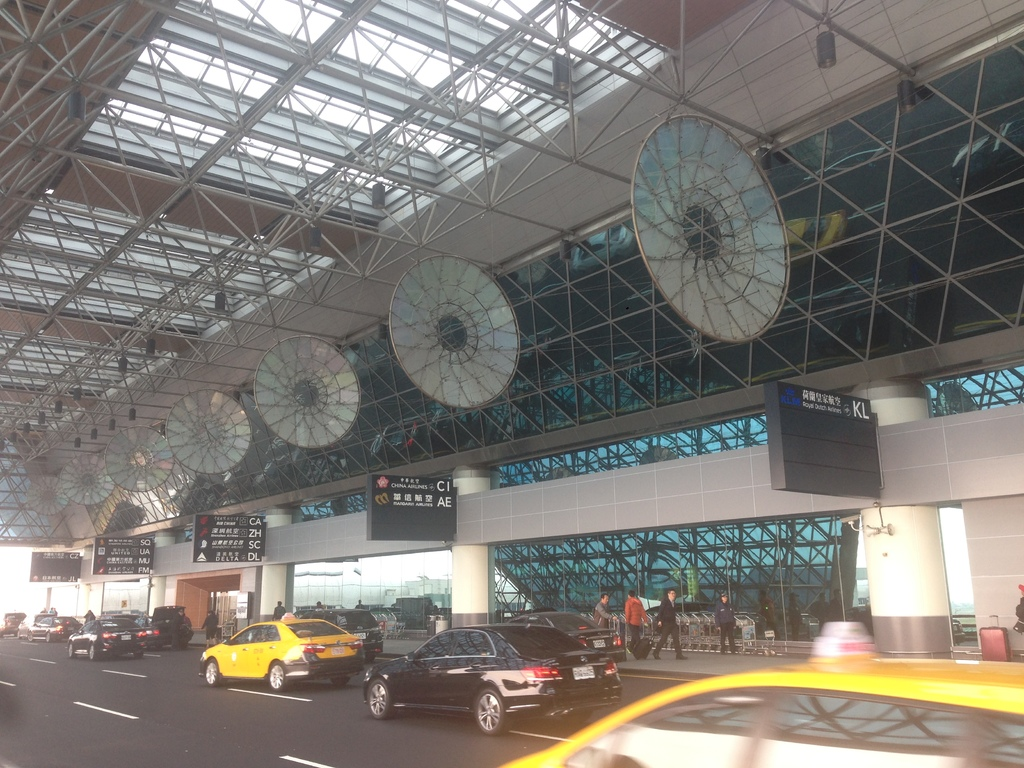Car: (502, 652, 1023, 767), (364, 616, 618, 735), (206, 618, 369, 682), (498, 608, 629, 679), (71, 621, 154, 666), (28, 613, 89, 648), (147, 602, 191, 650)
